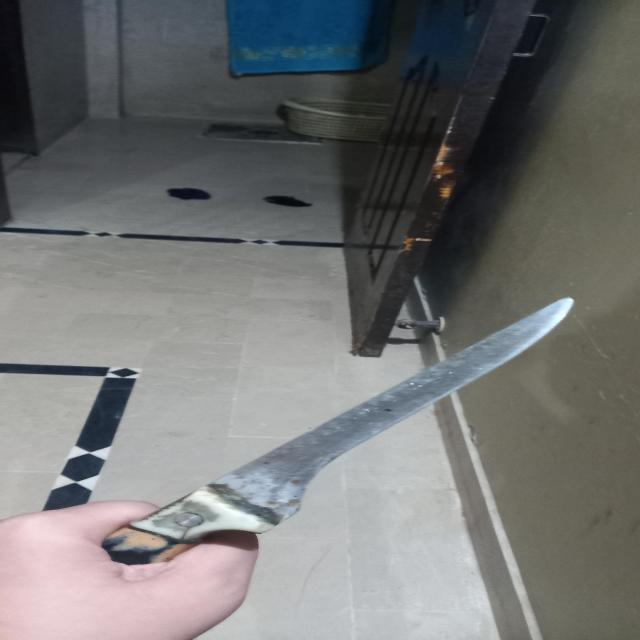Knife: (100, 298, 580, 566)
Person: (0, 500, 258, 640)
